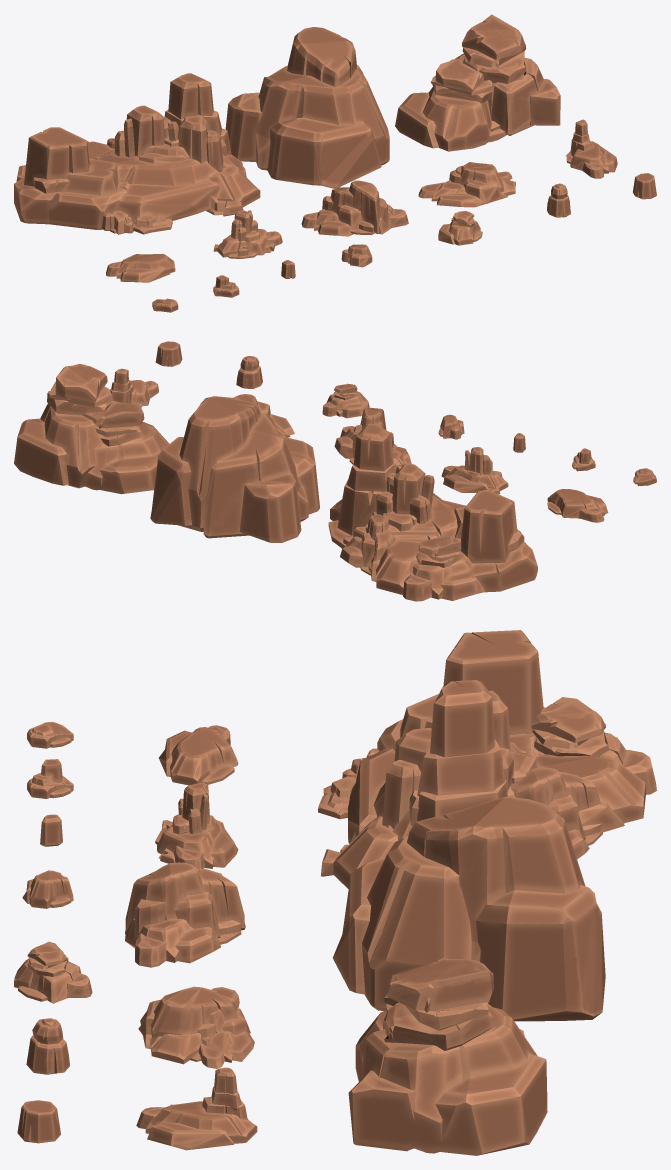
3 views of the same model, one above another, from view 1: azimuth 30°, elevation 25°; view 2: azimuth 150°, elevation 25°; view 3: azimuth 270°, elevation 25° (orthographic). The views are drawn at different scales.
Visible parts, largest first — view 1: Cube.013, Cube.009, Cube.015, Cube.008, Cube.010, Cube.006, Cube.014, Cube.005, Cube.017, Cube.016, Cube.007, Cube.011 (+1 smaller); view 2: Cube.013, Cube.009, Cube.015, Cube.006, Cube.005, Cube.008, Cube.014, Cube.017, Cube.016, Cube.010, Cube.011, Cube.007 (+1 smaller); view 3: Cube.009, Cube.013, Cube.015, Cube.008, Cube.010, Cube.014, Cube.006, Cube.005, Cube.017, Cube.016, Cube.011, Cube.007 (+2 smaller).
Boxes of the visible parts, x1,y1,x2,y2 form: Cube.013: (14, 73, 260, 234); Cube.009: (225, 27, 389, 188); Cube.015: (395, 14, 560, 151); Cube.008: (301, 180, 408, 236); Cube.010: (418, 162, 515, 207); Cube.006: (213, 210, 282, 258); Cube.014: (566, 119, 617, 178); Cube.005: (106, 253, 175, 282); Cube.017: (438, 211, 482, 245); Cube.016: (547, 183, 570, 217); Cube.007: (341, 244, 372, 267); Cube.011: (633, 173, 656, 199); Cube.013: (328, 423, 537, 601); Cube.009: (150, 396, 319, 542); Cube.015: (14, 364, 169, 494); Cube.006: (441, 447, 508, 494); Cube.005: (547, 489, 608, 522); Cube.008: (334, 407, 411, 464); Cube.014: (110, 368, 158, 407); Cube.017: (322, 383, 369, 418); Cube.016: (236, 356, 262, 388); Cube.010: (233, 394, 294, 437); Cube.011: (155, 341, 182, 366); Cube.007: (438, 414, 464, 439); Cube.009: (333, 796, 605, 1021); Cube.013: (318, 630, 656, 888); Cube.015: (348, 958, 547, 1155); Cube.008: (125, 862, 245, 967); Cube.010: (138, 986, 254, 1068); Cube.014: (136, 1067, 257, 1150); Cube.006: (155, 782, 238, 868); Cube.005: (159, 725, 238, 785); Cube.017: (14, 941, 92, 1003); Cube.016: (26, 1018, 69, 1074); Cube.011: (17, 1100, 60, 1143); Cube.007: (22, 870, 73, 908).
Bounding box in the file's own units: 62.71 × 12.83 × 40.
Materials: 8 (8 with a texture image).
